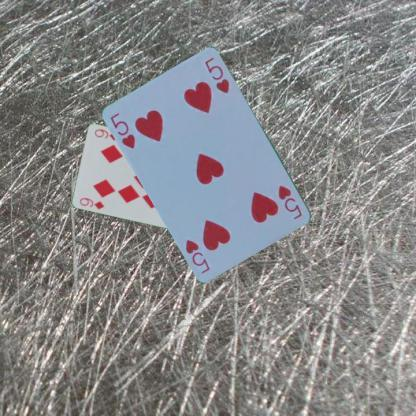5h: (107, 110, 137, 150), (275, 182, 304, 220)
9d: (77, 194, 106, 210)
